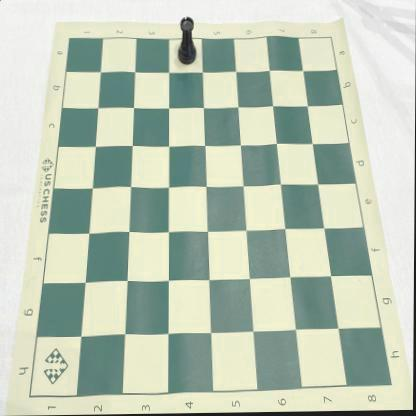black-rook: (178, 17, 196, 66)
